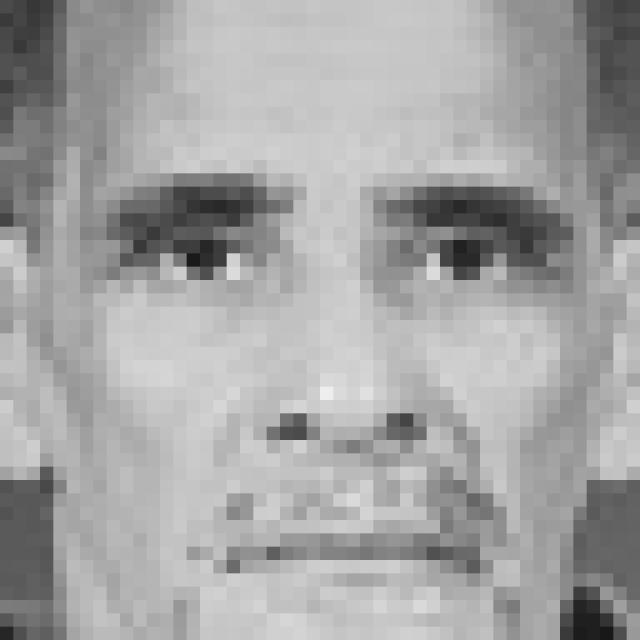neutral: (99, 164, 576, 618)
